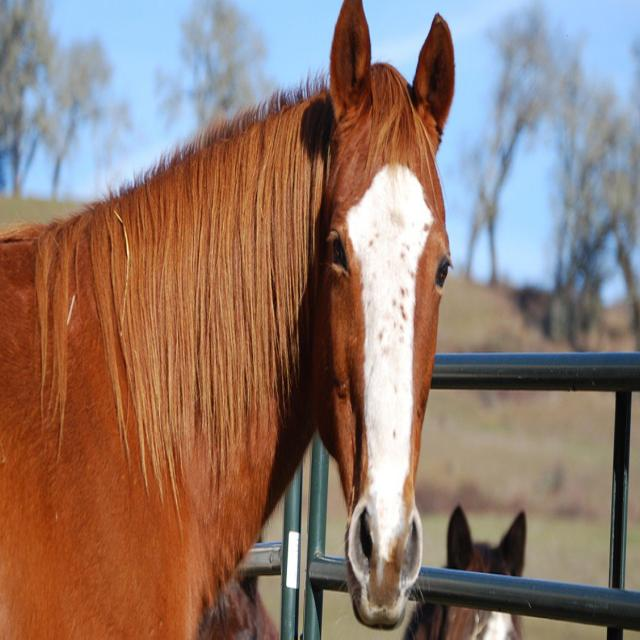Horse: (0, 0, 467, 640)
